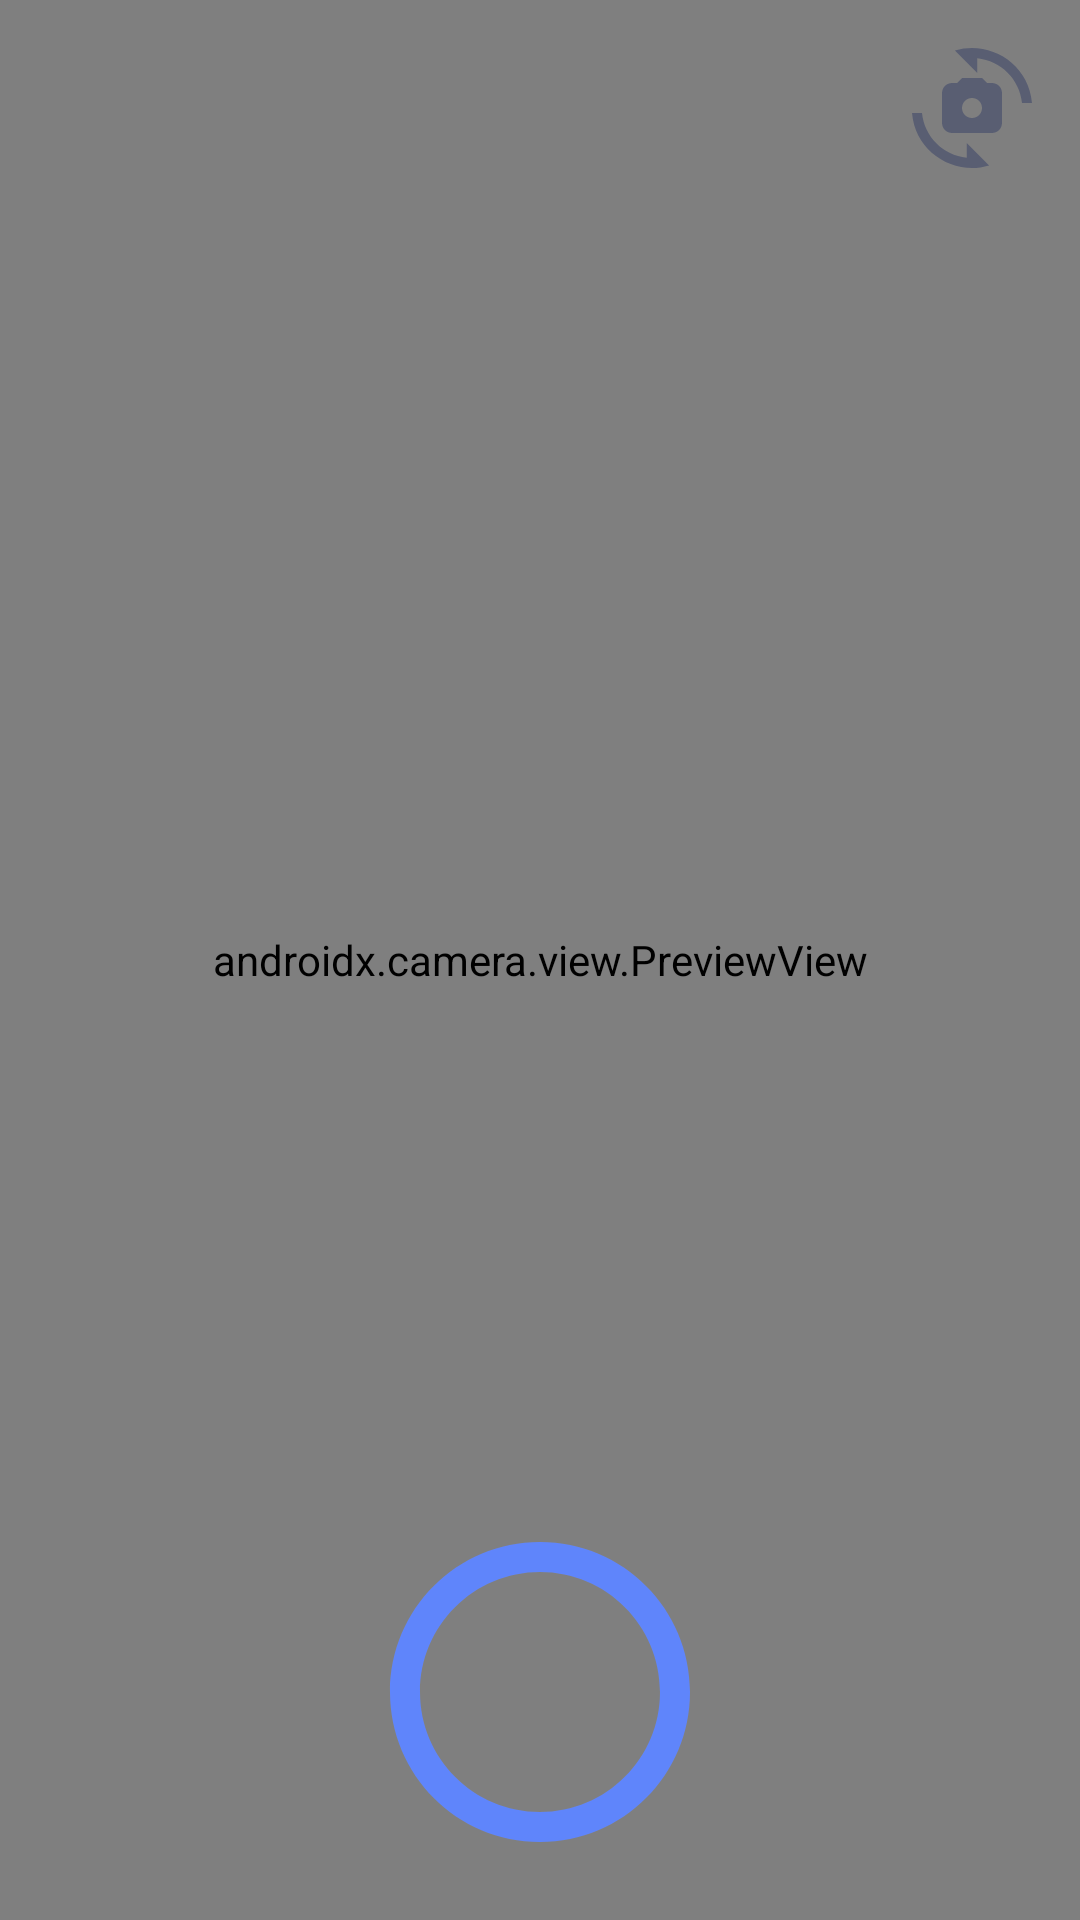

Named icons in this screenshot (1080×1920) and their centers, (x=x, y=y):
switch camera: (x=972, y=108)
